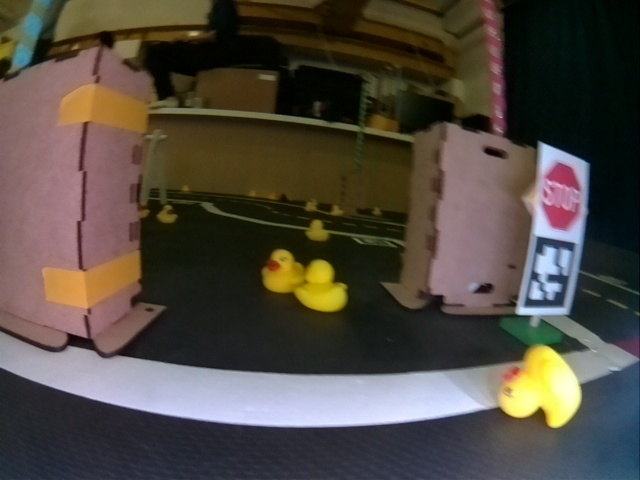Duckie: (501, 348, 584, 427), (296, 259, 347, 310), (261, 252, 300, 293), (307, 221, 329, 240), (160, 205, 176, 222), (330, 206, 341, 215), (305, 202, 315, 211), (375, 207, 381, 215)
QR code: (526, 237, 575, 307)
Stop sign: (539, 153, 583, 232)
